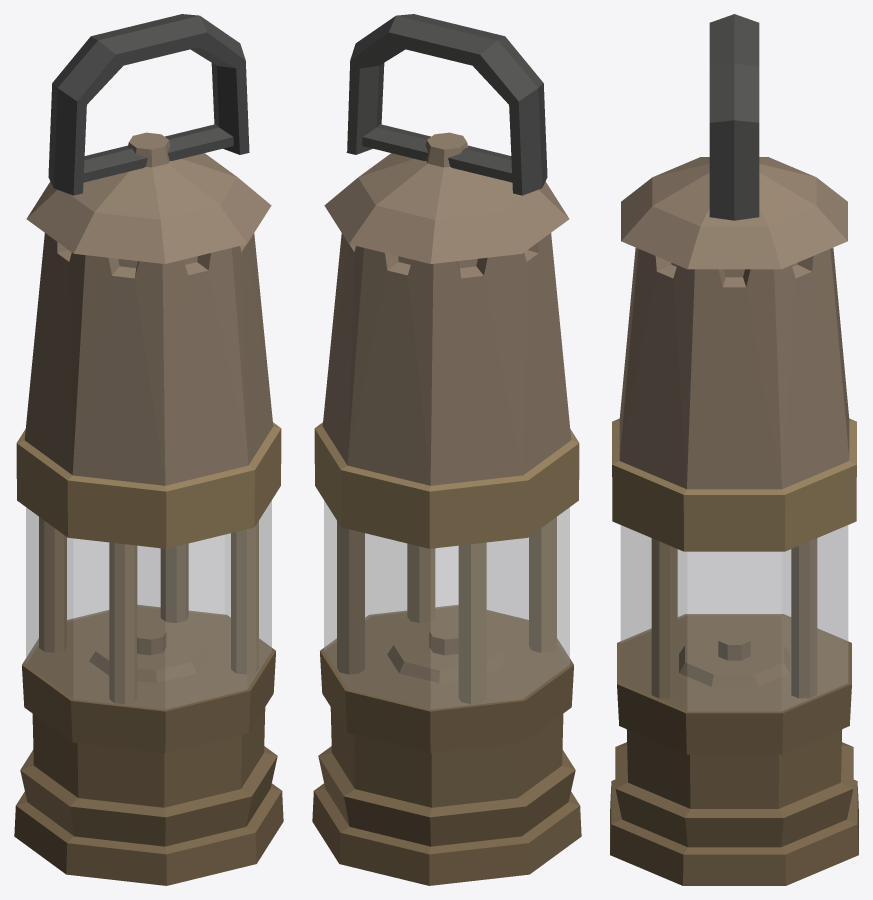
Rendered from SM_Prop_Lantern_01.glb.
The picture shows the model from 3 angles, left to right: view 1: azimuth 30°, elevation 25°; view 2: azimuth 150°, elevation 25°; view 3: azimuth 270°, elevation 25°; orthographic projection.
Parts seen in each view (by area): view 1: SM_Prop_Lantern_01, SM_Prop_Lantern_Glass_01; view 2: SM_Prop_Lantern_01, SM_Prop_Lantern_Glass_01; view 3: SM_Prop_Lantern_01, SM_Prop_Lantern_Glass_01.
Boxes of the visible parts, left/top/right/bottom form: SM_Prop_Lantern_01: left=14, top=14, right=283, bottom=885; SM_Prop_Lantern_Glass_01: left=26, top=500, right=271, bottom=709; SM_Prop_Lantern_01: left=312, top=14, right=581, bottom=885; SM_Prop_Lantern_Glass_01: left=324, top=500, right=569, bottom=709; SM_Prop_Lantern_01: left=610, top=14, right=858, bottom=885; SM_Prop_Lantern_Glass_01: left=620, top=525, right=848, bottom=711.
Bounding box in the file's own units: 0.1767 × 0.6225 × 0.1767.
Materials: 2 (1 with a texture image).
